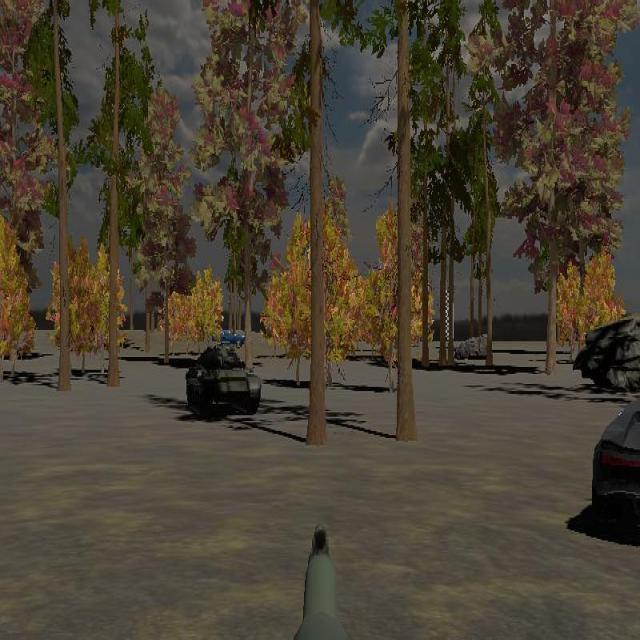Tank: (185, 344, 262, 417)
car: (592, 404, 640, 530)
